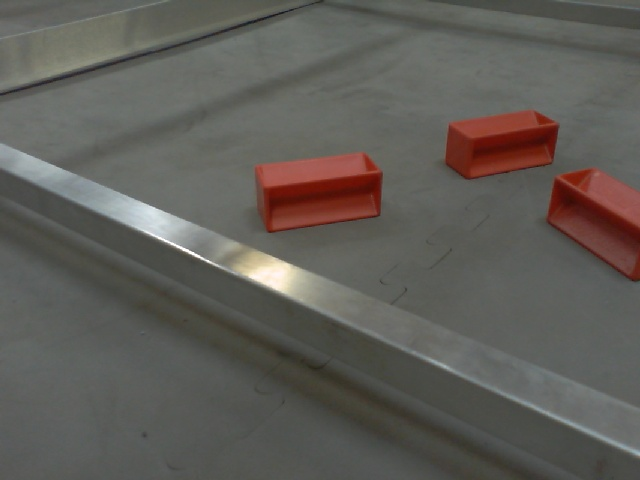RedSample: (548, 164, 640, 288), (255, 150, 386, 233), (445, 109, 554, 178)
